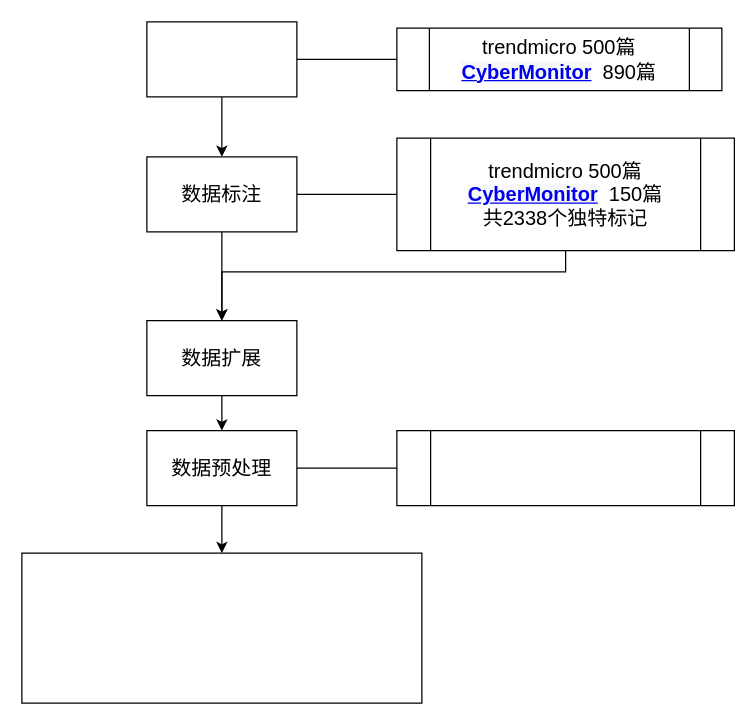
Some shapes in this 756 by 725 pixel diagram are drawn without their labels. The box of each missing label's shape, as (x1, y1, x2, y2) in pixels:
HMM 0.76 CRF 0.97 BiLSTM 0.96 BERT 0.70: (21, 552, 422, 703)
数据爬取: (146, 21, 297, 97)
选择句子长度小于40的句子 数据集划分7:1:2: (396, 429, 734, 506)
